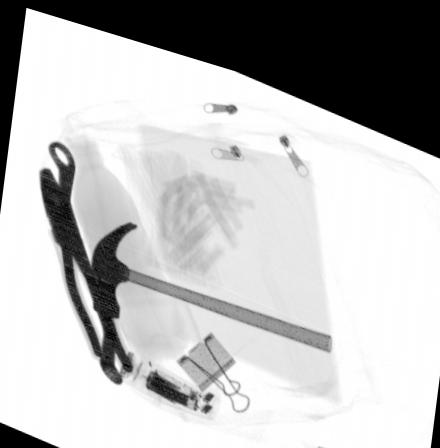Hammer: (91, 213, 330, 333)
Pliers: (37, 164, 136, 365)
Wrench: (47, 140, 121, 380)
